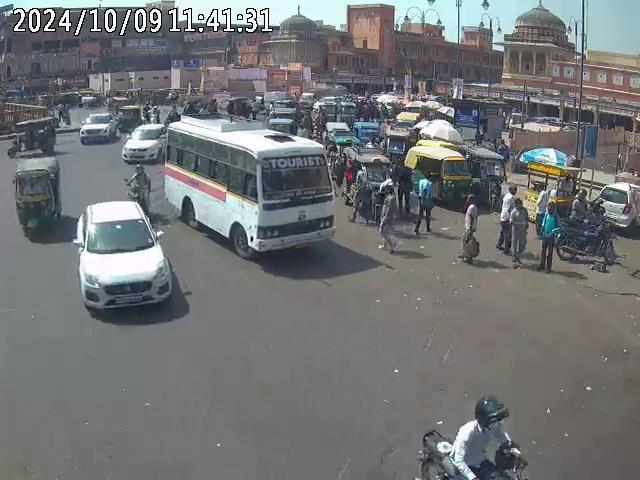auto: (405, 140, 472, 206), (10, 155, 62, 239), (346, 147, 395, 229), (467, 143, 507, 211), (597, 178, 639, 235), (8, 118, 57, 157), (116, 105, 142, 134)
bus: (164, 115, 336, 257)
car: (72, 200, 176, 319), (120, 123, 167, 163), (78, 113, 119, 144)
helmet: (474, 394, 510, 427), (135, 163, 144, 173)
license_plate: (115, 292, 146, 302)
motorbike: (552, 218, 622, 260)
motorbike-rider: (414, 393, 531, 479), (125, 164, 152, 212)
person: (496, 189, 529, 264), (410, 171, 437, 235), (459, 190, 478, 264)
